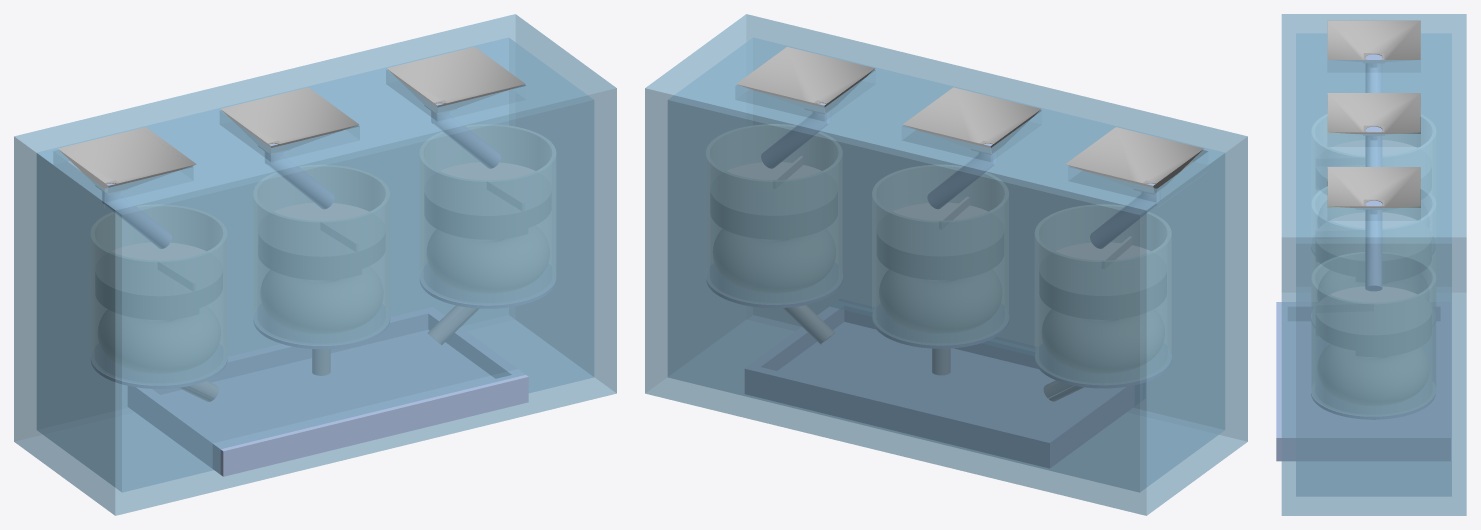
The model's file is Dispenser.glb.
3 renders of one model, left to right at view 1: azimuth 30°, elevation 25°; view 2: azimuth 150°, elevation 25°; view 3: azimuth 270°, elevation 25°, orthographic. The views are drawn at different scales.
Visible parts, largest first — view 1: Box006, Box013, Tube003, Tube001, Tube005, Pyramid001, Pyramid003, Pyramid002, Line004, Line010, Line007, Circle001 (+3 smaller); view 2: Box006, Box013, Tube003, Tube005, Tube001, Pyramid001, Pyramid003, Pyramid002, Line007, Line004, Line010, Circle007 (+3 smaller); view 3: Box006, Tube005, Box013, Tube003, Tube001, Pyramid001, Pyramid003, Pyramid002, Line010, Circle009, Circle001, Circle007 (+3 smaller).
Part boxes in pixels (x1,y1,x2,y2): Box006: (14, 14, 616, 515); Box013: (128, 307, 528, 476); Tube003: (253, 165, 389, 344); Tube001: (91, 205, 226, 384); Tube005: (420, 125, 555, 303); Pyramid001: (58, 127, 196, 194); Pyramid003: (387, 46, 525, 114); Pyramid002: (220, 87, 358, 154); Line004: (102, 183, 171, 248); Line010: (431, 103, 500, 168); Line007: (265, 143, 334, 208); Circle001: (111, 242, 205, 260); Box006: (645, 14, 1247, 515); Box013: (745, 306, 1134, 468); Tube003: (872, 165, 1008, 344); Tube005: (706, 124, 841, 303); Tube001: (1035, 205, 1170, 384); Pyramid001: (1065, 127, 1203, 194); Pyramid003: (736, 47, 874, 114); Pyramid002: (902, 87, 1040, 154); Line007: (927, 143, 997, 208); Line004: (1090, 183, 1159, 248); Line010: (761, 103, 830, 168); Circle007: (893, 203, 987, 220); Box006: (1281, 14, 1466, 515); Tube005: (1312, 252, 1435, 415); Box013: (1276, 302, 1450, 461); Tube003: (1312, 186, 1435, 272); Tube001: (1312, 114, 1435, 207); Pyramid001: (1327, 20, 1420, 62); Pyramid003: (1327, 167, 1420, 209); Pyramid002: (1327, 93, 1420, 135); Line010: (1365, 200, 1382, 290); Circle009: (1331, 286, 1416, 302); Circle001: (1331, 140, 1416, 155); Circle007: (1331, 212, 1416, 228).
Size of the model in its own units: 0.3699 by 0.2165 by 0.133.
